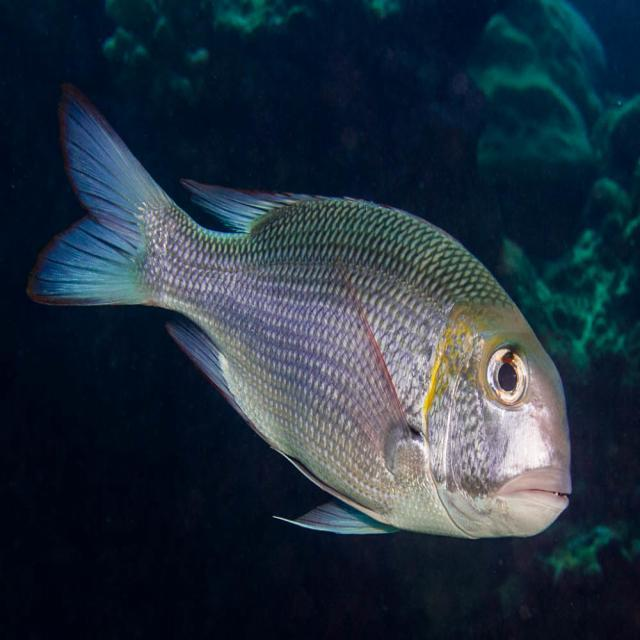Healthy Fish: (28, 88, 576, 547)
